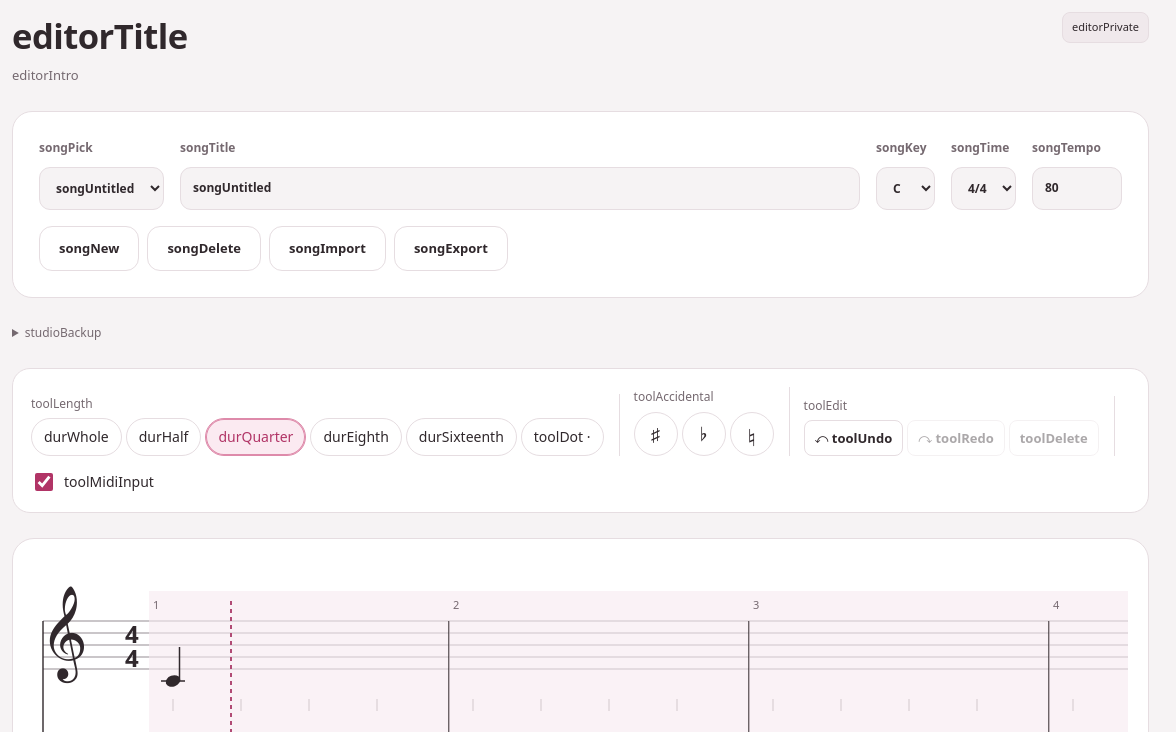
note editor MIDI lifecycle › clears the undo history when creating a new song
What coordinates should you click on to do the following:
click the button "songNew"
I would click on:
 (89, 248)
Its box is [39,226,139,271].
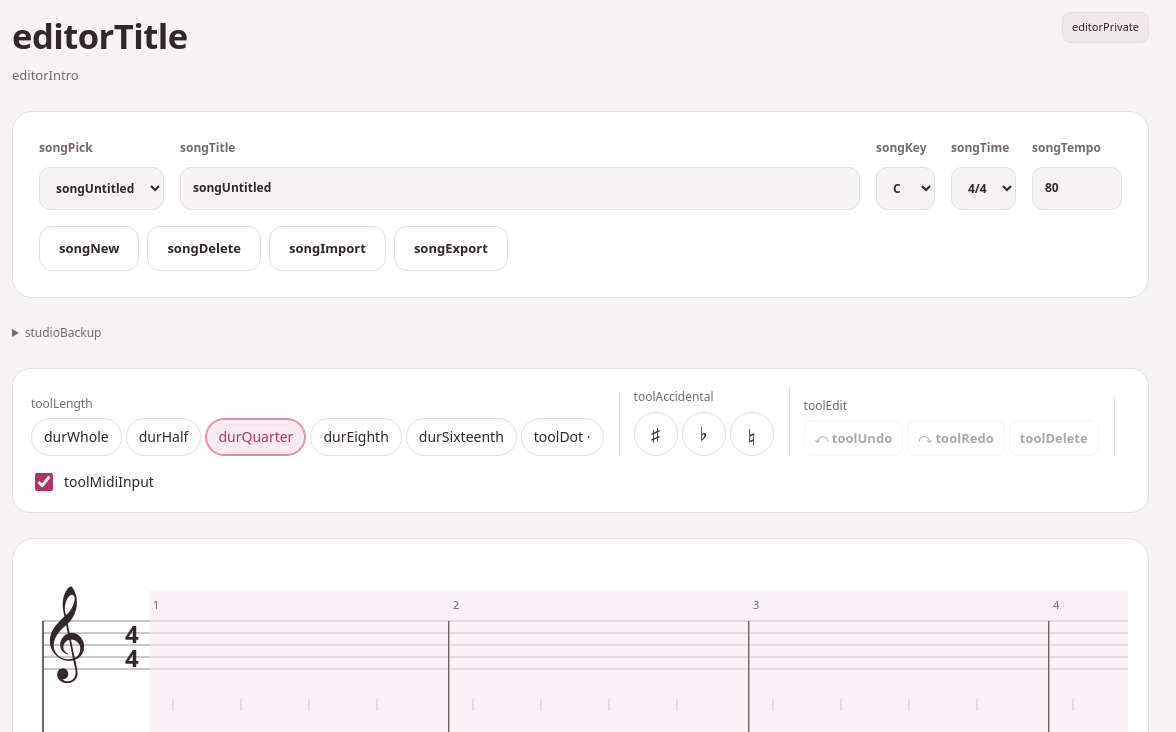
Check: the button "↶ toolUndo" is disabled, box [804,420,903,456]
